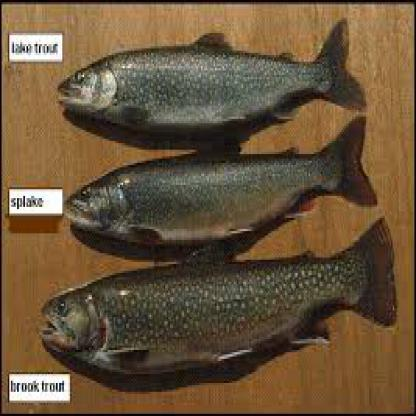fish: (37, 212, 400, 391), (62, 104, 375, 258), (50, 14, 361, 146)
